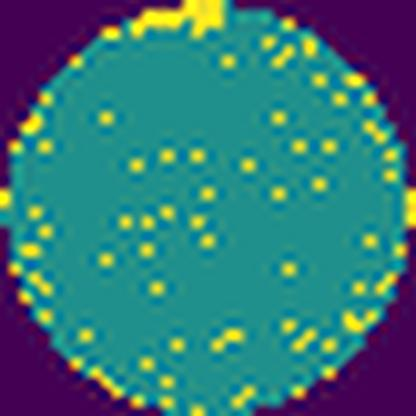Edge-Loc: (127, 0, 231, 45)
